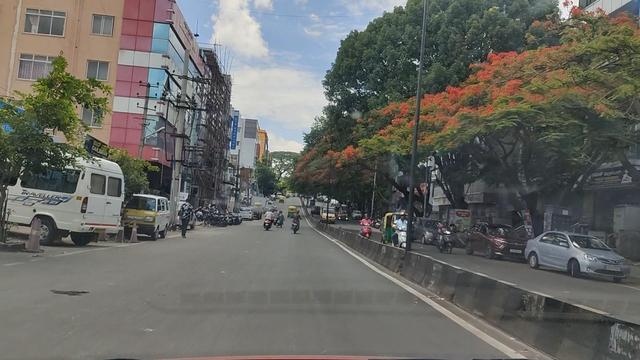RoadDamages: (40, 283, 108, 301)
